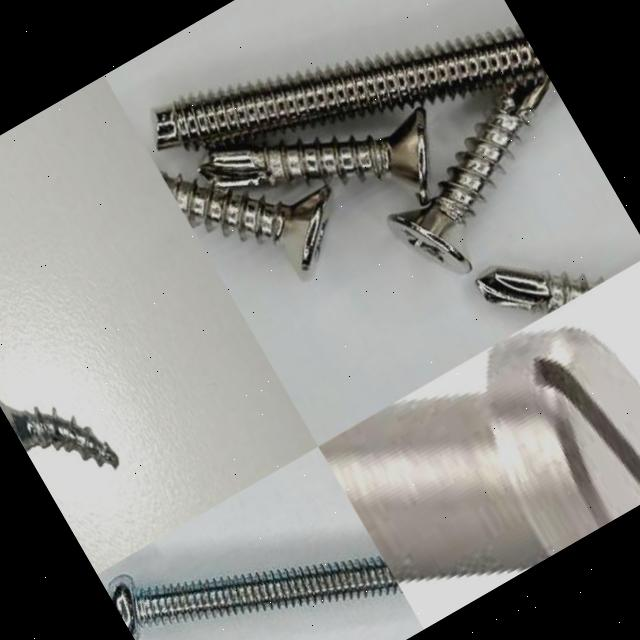Screw: (319, 324, 640, 586), (156, 28, 547, 149), (389, 76, 553, 274), (108, 557, 403, 640), (202, 108, 428, 202), (160, 172, 331, 273), (0, 399, 119, 468), (477, 267, 605, 313)
